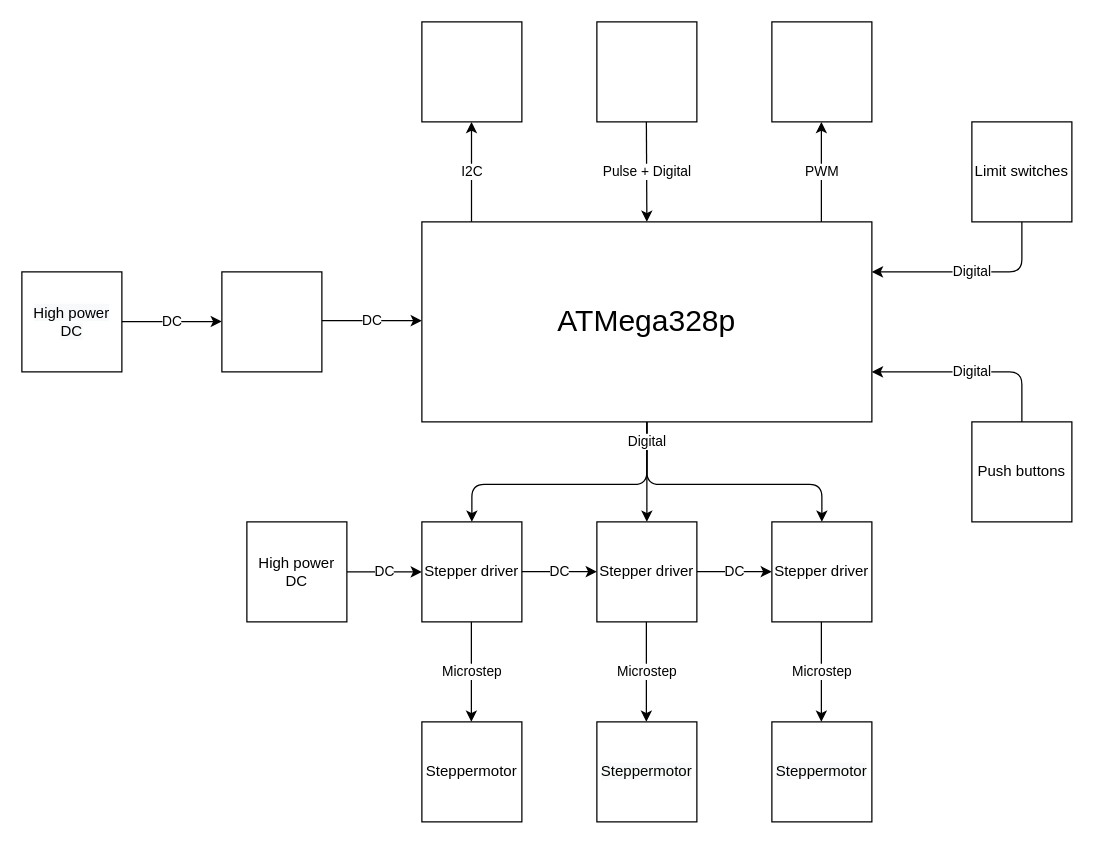
This 1094x844 diagram has some shape labels left out. The box of each missing label's shape, as (x1, y1, x2, y2) in pixels:
5V converter: (221, 271, 322, 372)
LCD: (421, 21, 522, 122)
Rotary encoder + Button: (596, 21, 697, 122)
Servo motor: (771, 21, 872, 122)
